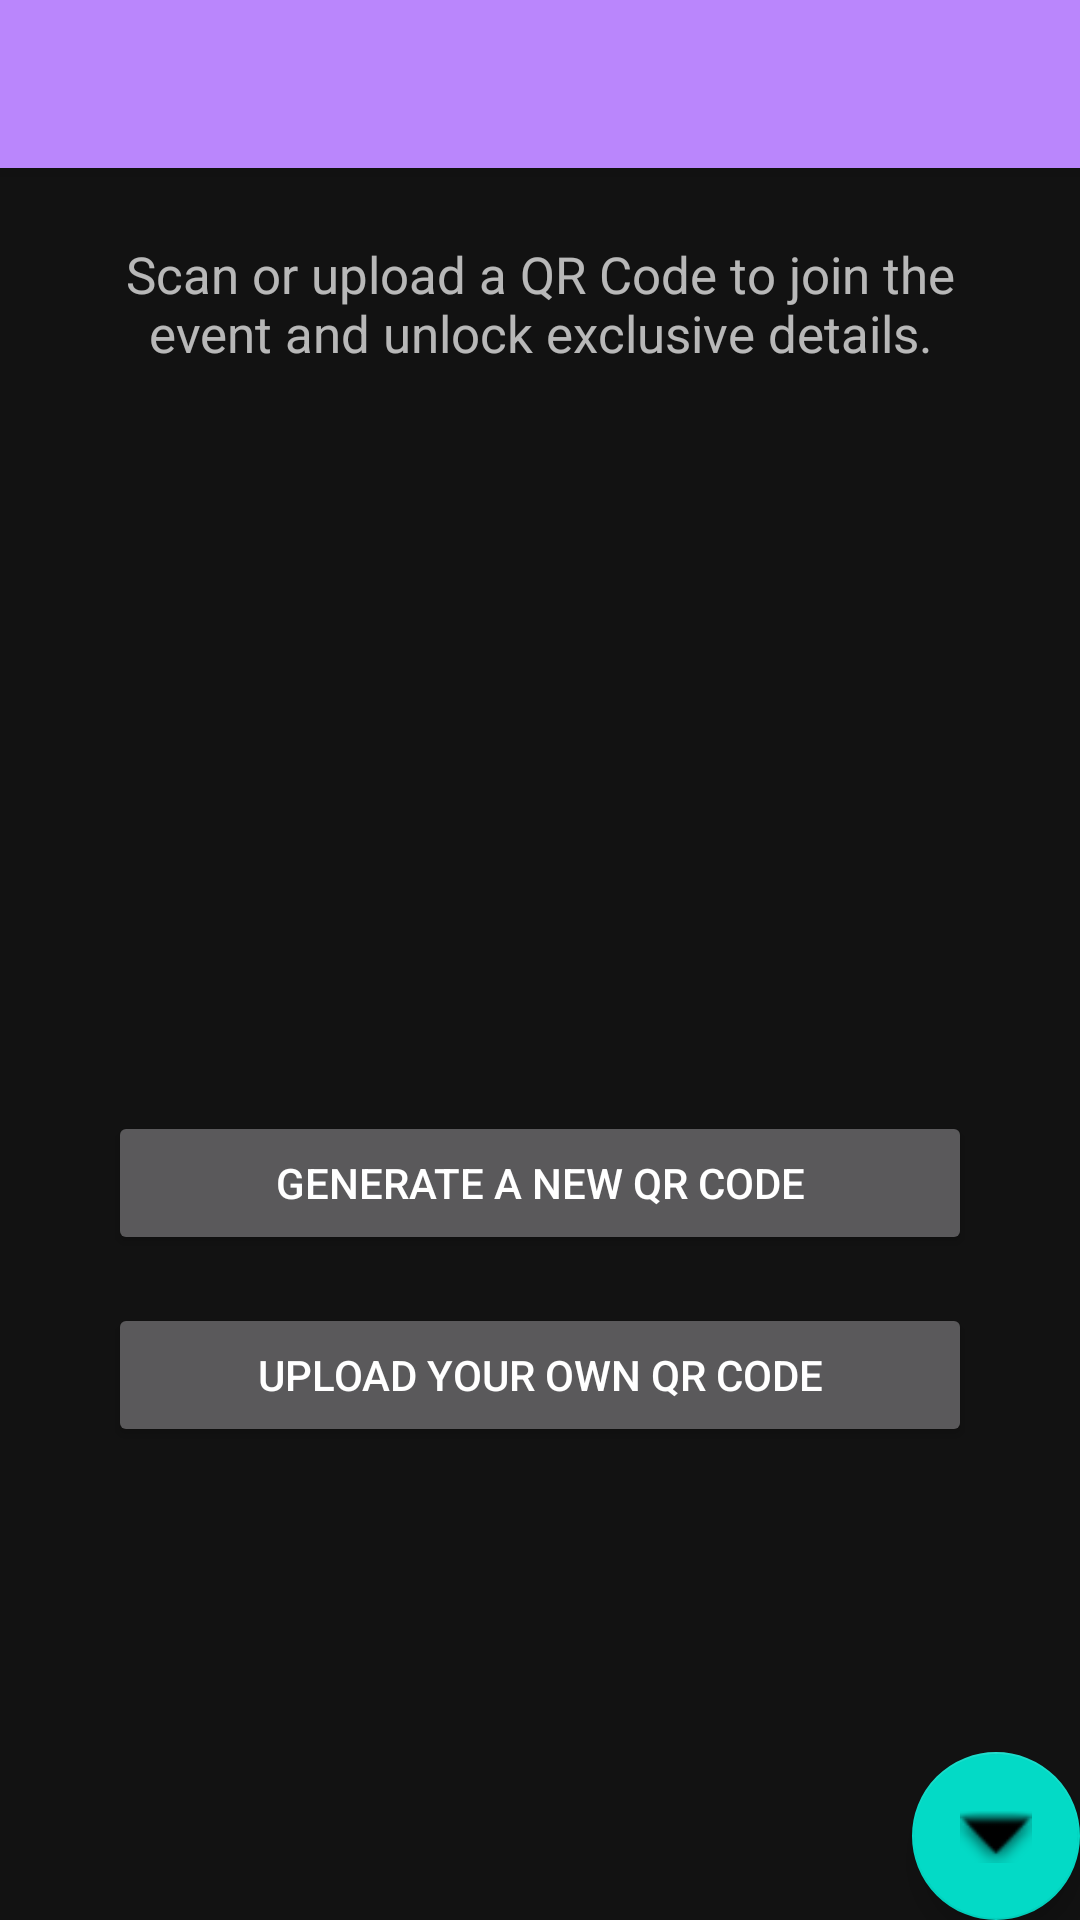

Named icons in this screenshot (1080 × 1920) and their centers, point (x, y):
arrow down float: point (996, 1836)
